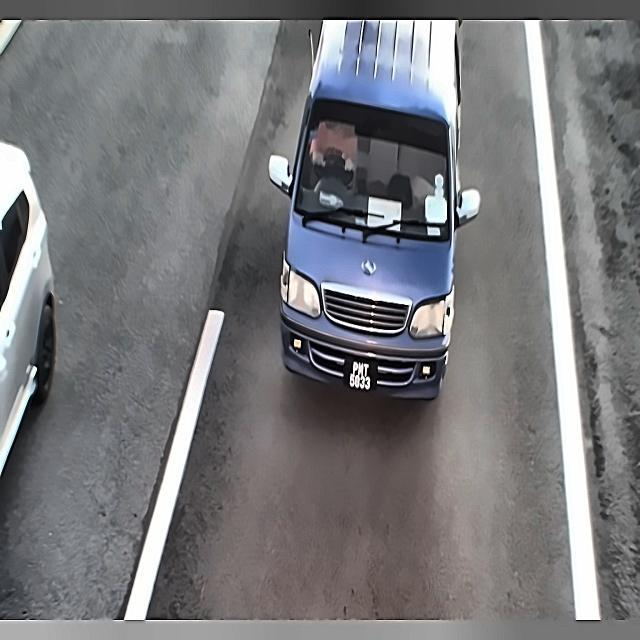car: (335, 351, 381, 396)
